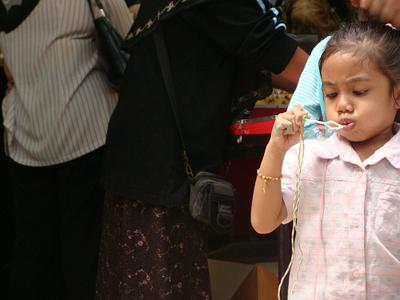person: (244, 22, 397, 297)
